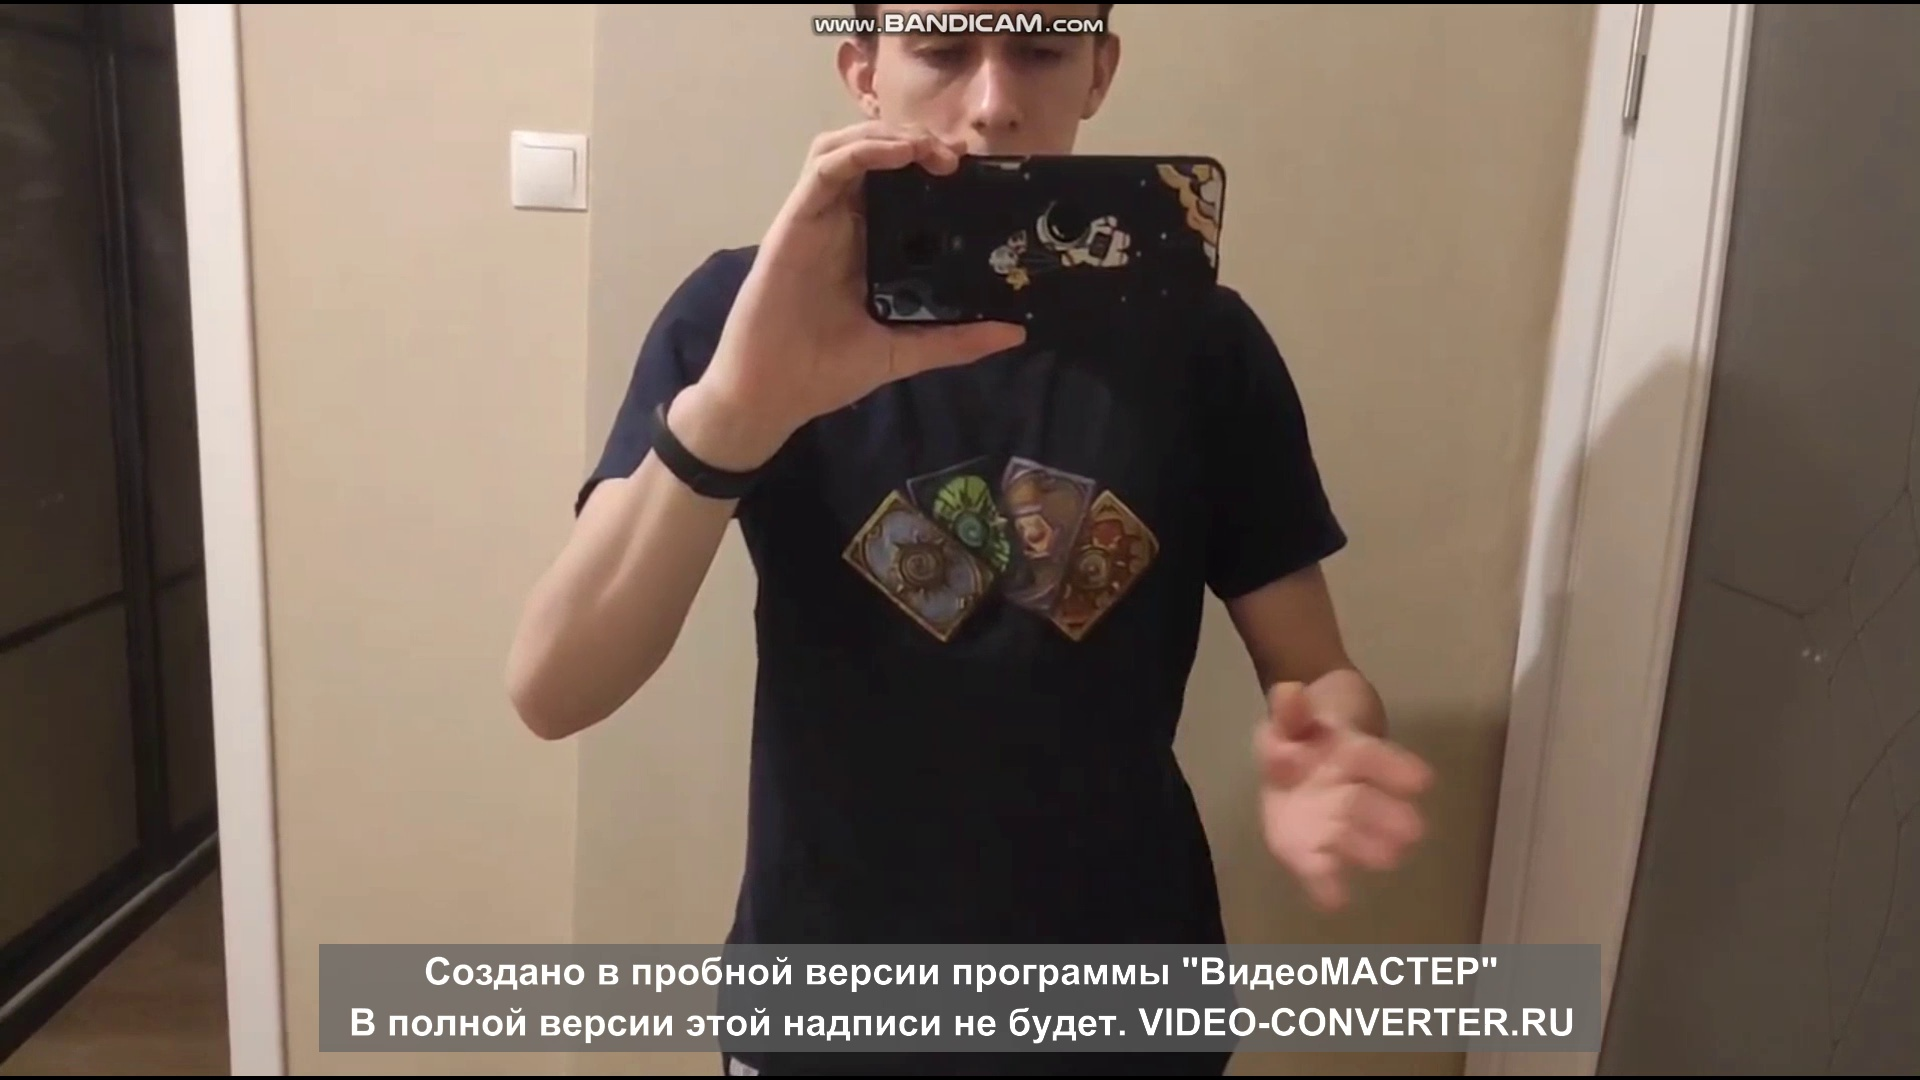Ладонь: (1255, 680, 1432, 913)
